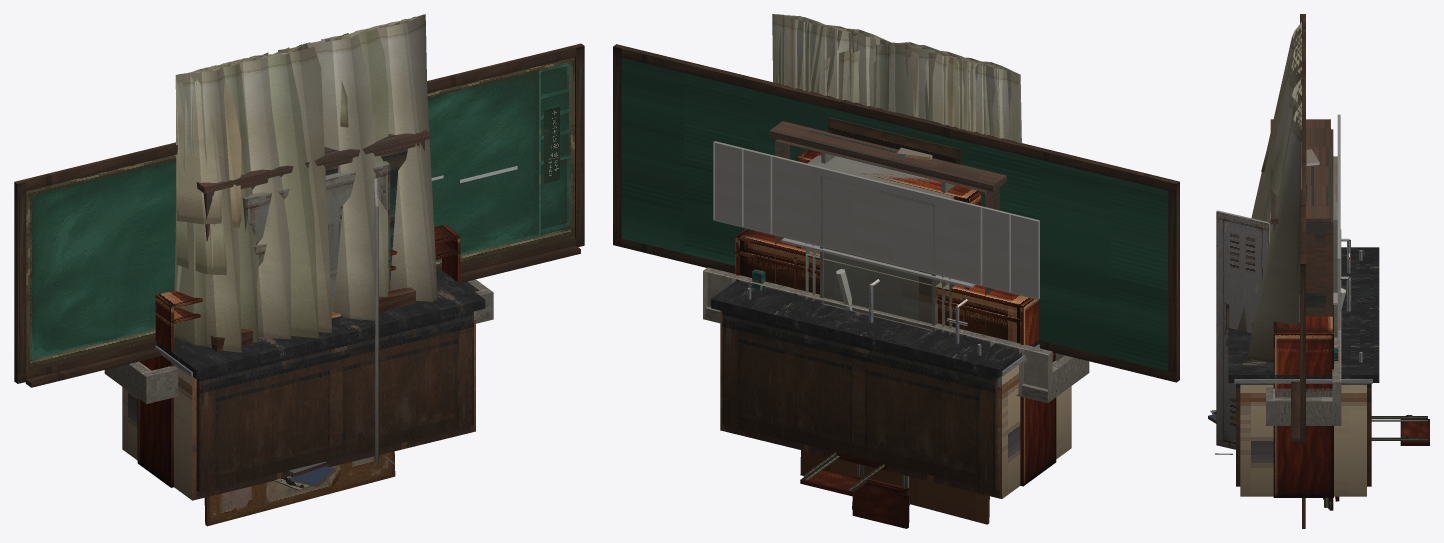
The model's file is props_1f_a.glb.
3 renders of one model, left to right at view 1: azimuth 30°, elevation 25°; view 2: azimuth 150°, elevation 25°; view 3: azimuth 270°, elevation 25°, orthographic. The views are drawn at different scales.
Parts seen in each view (by area): view 1: prop_blackboard-large-0, prop_labbench-0, prop_curtain-closed-0, prop_curtain-half-0, prop_curtain-fallen-1, prop_curtain-closed-1, prop_curtain-half-3, prop_kitchen_counter-0, prop_curtain-fallen-3, prop_notice_board-2, prop_lockerrow-1, prop_curtain-torn-3 (+8 smaller); view 2: prop_blackboard-large-0, prop_labbench-0, prop_hallsink-24-1, prop_hallsink-20-2, prop_lockerrow-0, prop_kitchen_counter-0, prop_cleaning_locker-1, prop_medicine_shelf-1, prop_lockerrow-1, prop_curtain-closed-0, prop_notice_board-2, prop_curtain-fallen-3 (+17 smaller); view 3: prop_labbench-0, prop_kitchen_counter-0, prop_lockerrow-0, prop_cleaning_locker-1, prop_curtain-half-0, prop_medicine_shelf-1, prop_lockerrow-1, prop_blackboard-large-0, prop_hallsink-24-1, prop_chairfallen-4-0, prop_curtain-torn-3, prop_curtain-fallen-3 (+8 smaller).
Boxes of the visible parts, x1,y1,x2,y2 form: prop_blackboard-large-0: [14, 43, 584, 387]; prop_labbench-0: [156, 270, 485, 492]; prop_curtain-closed-0: [181, 16, 433, 339]; prop_curtain-half-0: [175, 15, 437, 320]; prop_curtain-fallen-1: [174, 50, 318, 346]; prop_curtain-closed-1: [181, 14, 423, 342]; prop_curtain-half-3: [179, 19, 406, 352]; prop_kitchen_counter-0: [122, 311, 475, 500]; prop_curtain-fallen-3: [174, 47, 332, 336]; prop_notice_board-2: [204, 451, 395, 526]; prop_lockerrow-1: [137, 242, 460, 486]; prop_curtain-torn-3: [176, 14, 427, 224]; prop_blackboard-large-0: [613, 44, 1179, 382]; prop_labbench-0: [711, 279, 1038, 490]; prop_hallsink-24-1: [703, 141, 1089, 403]; prop_hallsink-20-2: [731, 149, 1053, 396]; prop_lockerrow-0: [735, 228, 1056, 486]; prop_kitchen_counter-0: [720, 283, 1071, 498]; prop_cleaning_locker-1: [820, 176, 941, 331]; prop_medicine_shelf-1: [769, 121, 1006, 340]; prop_lockerrow-1: [735, 251, 1056, 485]; prop_curtain-closed-0: [774, 14, 1020, 142]; prop_notice_board-2: [800, 450, 989, 524]; prop_curtain-fallen-3: [823, 42, 1019, 142]; prop_labbench-0: [1228, 247, 1379, 486]; prop_kitchen_counter-0: [1234, 238, 1372, 496]; prop_lockerrow-0: [1273, 305, 1333, 497]; prop_cleaning_locker-1: [1216, 210, 1269, 449]; prop_curtain-half-0: [1237, 26, 1301, 362]; prop_medicine_shelf-1: [1270, 119, 1333, 316]; prop_lockerrow-1: [1273, 347, 1333, 497]; prop_blackboard-large-0: [1291, 14, 1305, 444]; prop_hallsink-24-1: [1266, 114, 1341, 425]; prop_chairfallen-4-0: [1371, 415, 1429, 445]; prop_curtain-torn-3: [1283, 27, 1301, 322]; prop_curtain-fallen-3: [1256, 23, 1301, 220].
Bounding box in the file's own units: 3.92 × 3.1 × 1.47.
Materials: 96 (96 with a texture image).
